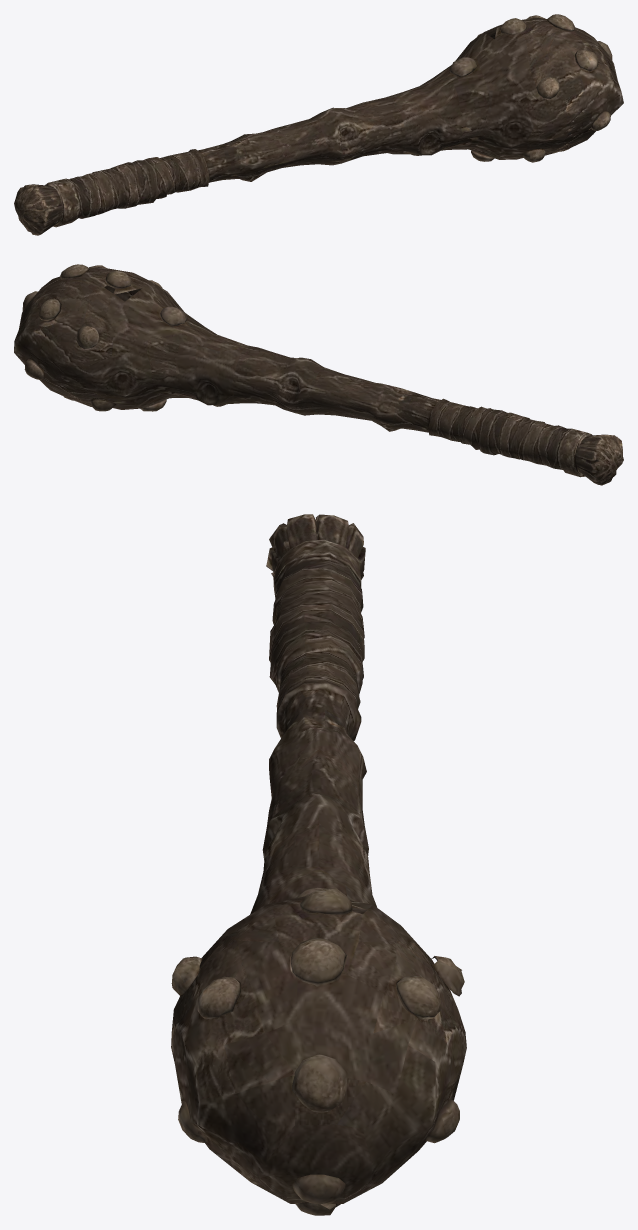
Rendered from shepherds-club.glb.
The picture shows the model from 3 angles, top to bottom: view 1: azimuth 30°, elevation 25°; view 2: azimuth 150°, elevation 25°; view 3: azimuth 270°, elevation 25°; orthographic projection. The views are drawn at different scales.
Bounding box in the file's own units: 0.9536 × 0.2143 × 0.2065.
Materials: 1 (1 with a texture image).
